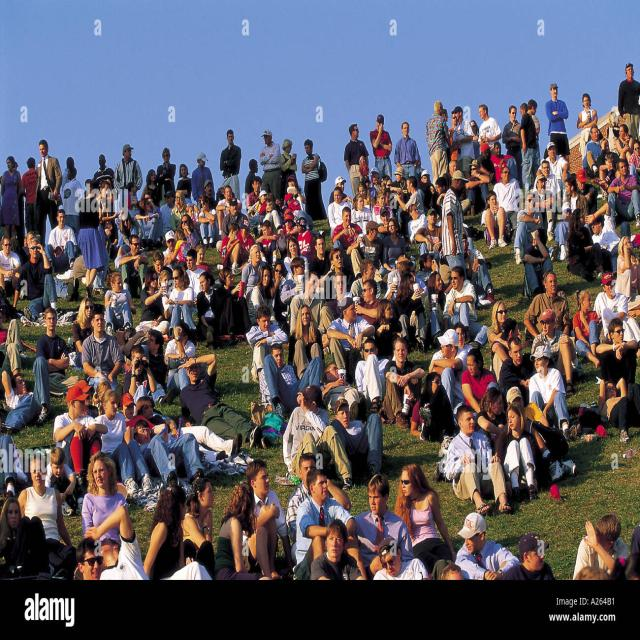human: (276, 384, 350, 490), (176, 354, 263, 443), (18, 450, 77, 574), (453, 412, 509, 512), (378, 328, 428, 440), (81, 450, 134, 554), (298, 466, 357, 558), (333, 390, 389, 486), (218, 477, 266, 582), (399, 455, 447, 559), (97, 386, 144, 492), (237, 454, 293, 540), (439, 164, 476, 284), (356, 464, 404, 556), (510, 210, 565, 287), (145, 480, 187, 580), (591, 312, 639, 395), (451, 518, 507, 586), (326, 298, 378, 369), (430, 320, 476, 400), (532, 272, 570, 367), (527, 349, 574, 425), (308, 514, 362, 580), (476, 290, 522, 366), (502, 326, 547, 403), (455, 340, 500, 416), (593, 268, 638, 344), (570, 284, 606, 373), (181, 478, 222, 555), (478, 184, 520, 258), (391, 268, 434, 338), (57, 390, 93, 473), (36, 301, 70, 386), (503, 404, 541, 480), (34, 142, 64, 238), (418, 367, 456, 441), (290, 302, 330, 370), (243, 309, 286, 371), (352, 277, 396, 330), (238, 243, 275, 305), (445, 270, 481, 331), (373, 212, 410, 268), (100, 274, 136, 330), (22, 241, 50, 311), (215, 126, 240, 199), (543, 79, 570, 145), (172, 211, 204, 265), (616, 54, 640, 125), (345, 118, 366, 198), (2, 154, 20, 246), (151, 138, 178, 198), (372, 111, 396, 178), (66, 145, 88, 218), (0, 236, 22, 308), (113, 150, 139, 208), (395, 115, 419, 176), (260, 126, 280, 199), (578, 79, 602, 132), (224, 217, 248, 267), (351, 215, 376, 262), (92, 150, 115, 200), (312, 232, 338, 276), (301, 137, 316, 213), (276, 134, 294, 195), (192, 146, 210, 194), (262, 250, 287, 284)
